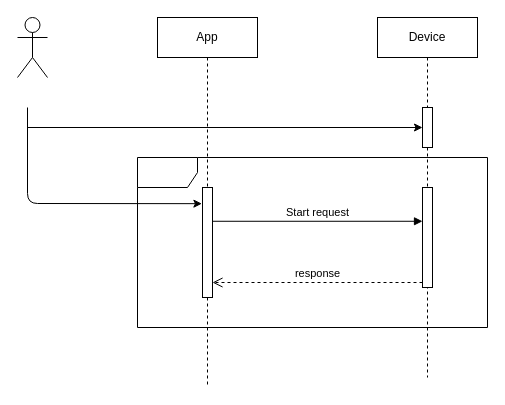
Some shapes in this 505 by 405 pixel diagram are drawn without their labels. Each missing label, with the centre of its shape:
Altername Flow: pixel 312 242
User: pixel 32 47
